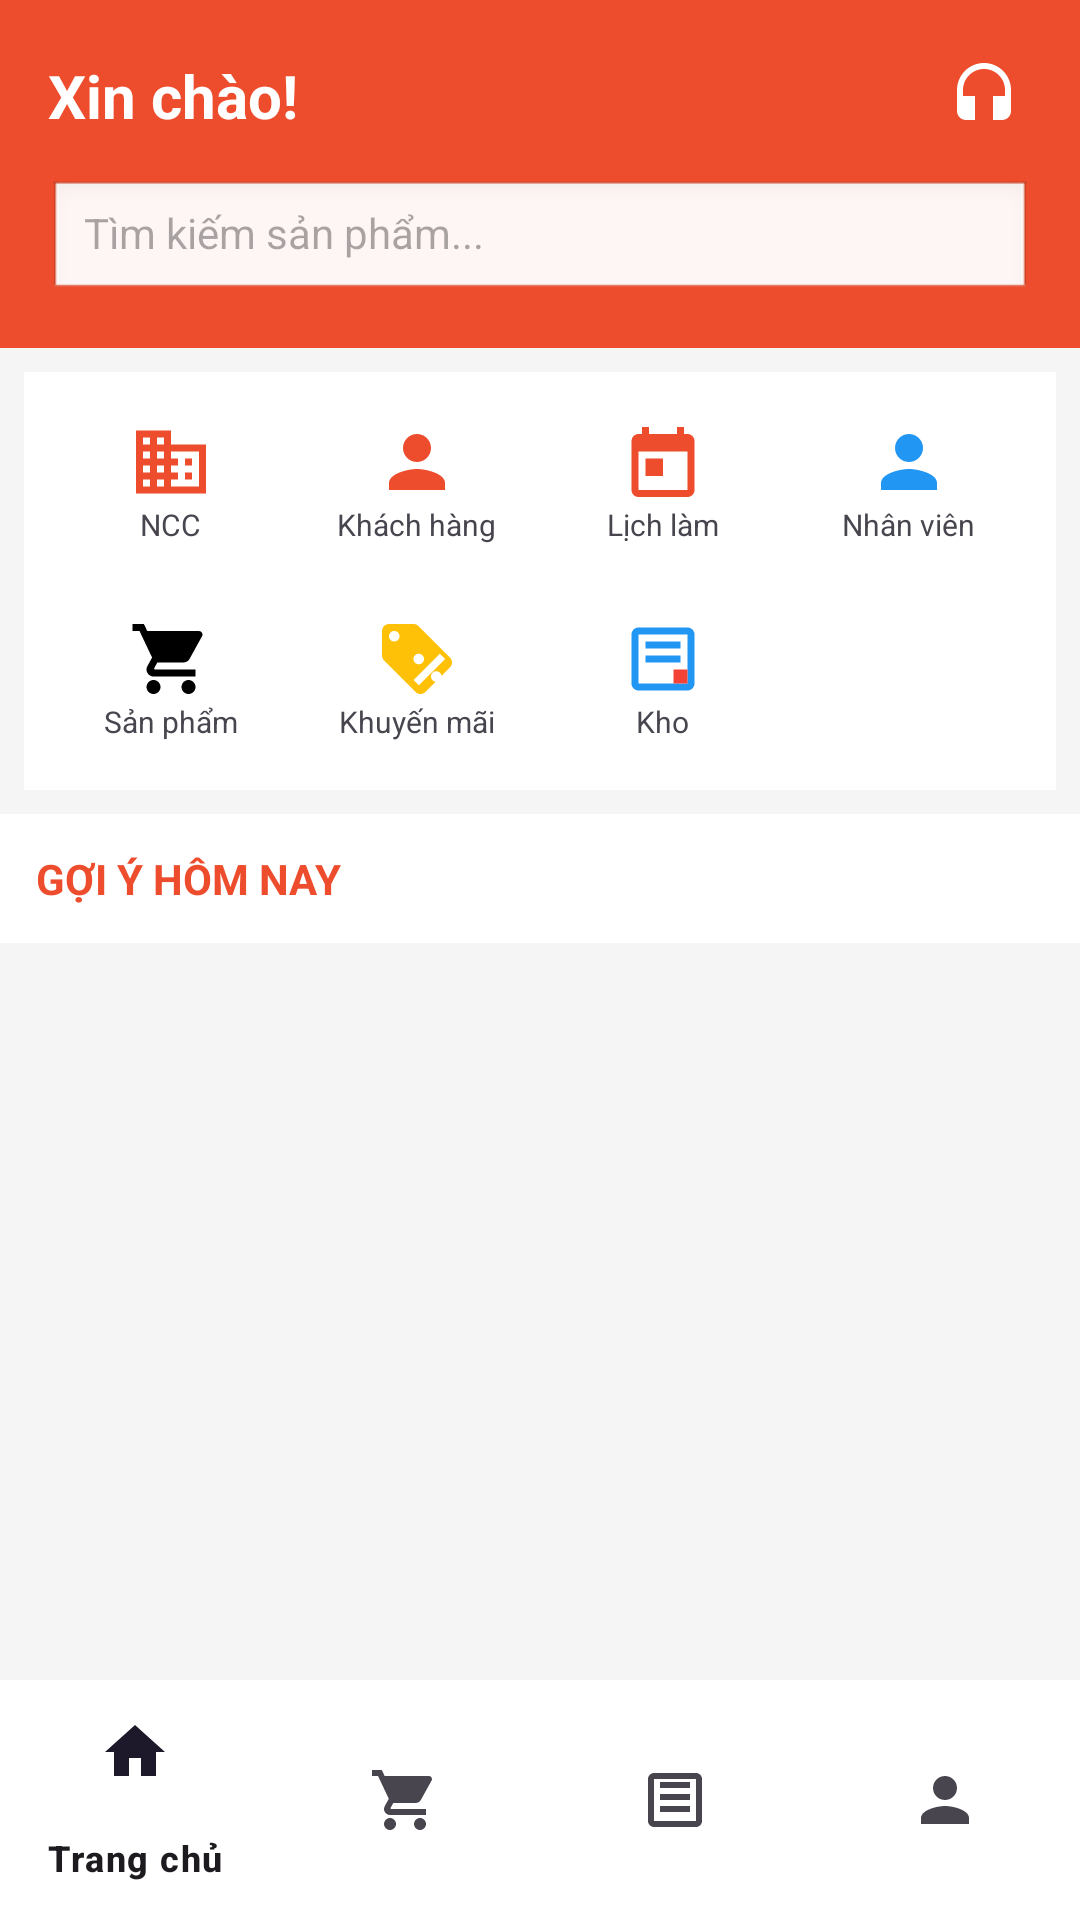

Icon click points for this 1080x1920 phone screenshot, format point (x, y):
business: point (171, 462)
headset: point (984, 91)
person: point (417, 462), point (909, 462)
shopping cart: point (167, 659)
